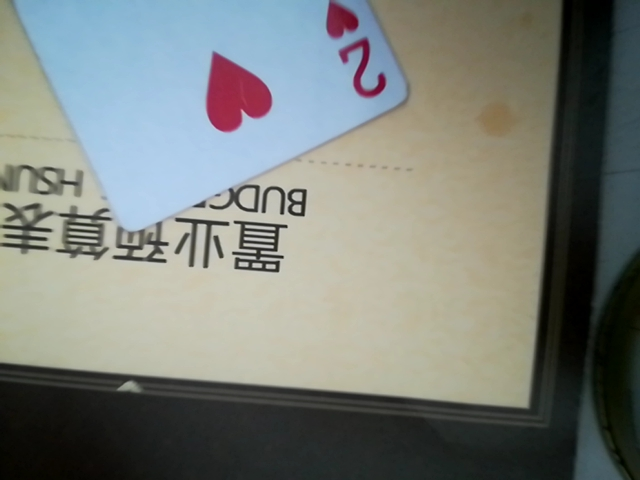hx 2: (0, 1, 414, 228)
